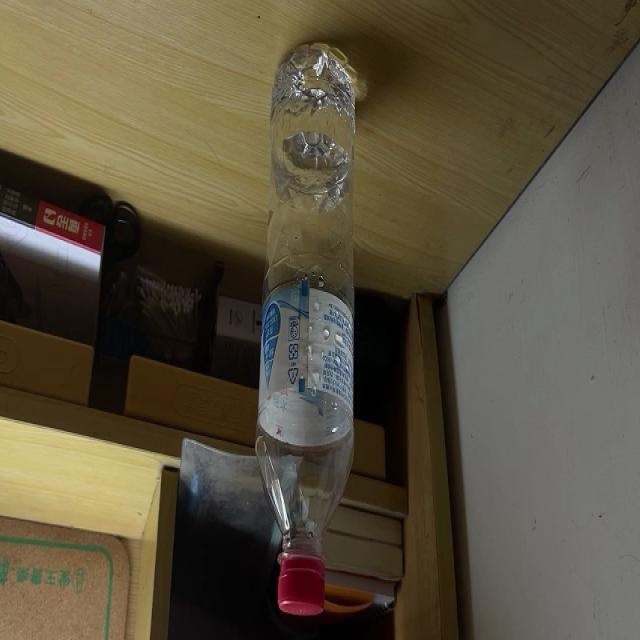Water: (256, 43, 354, 616)
